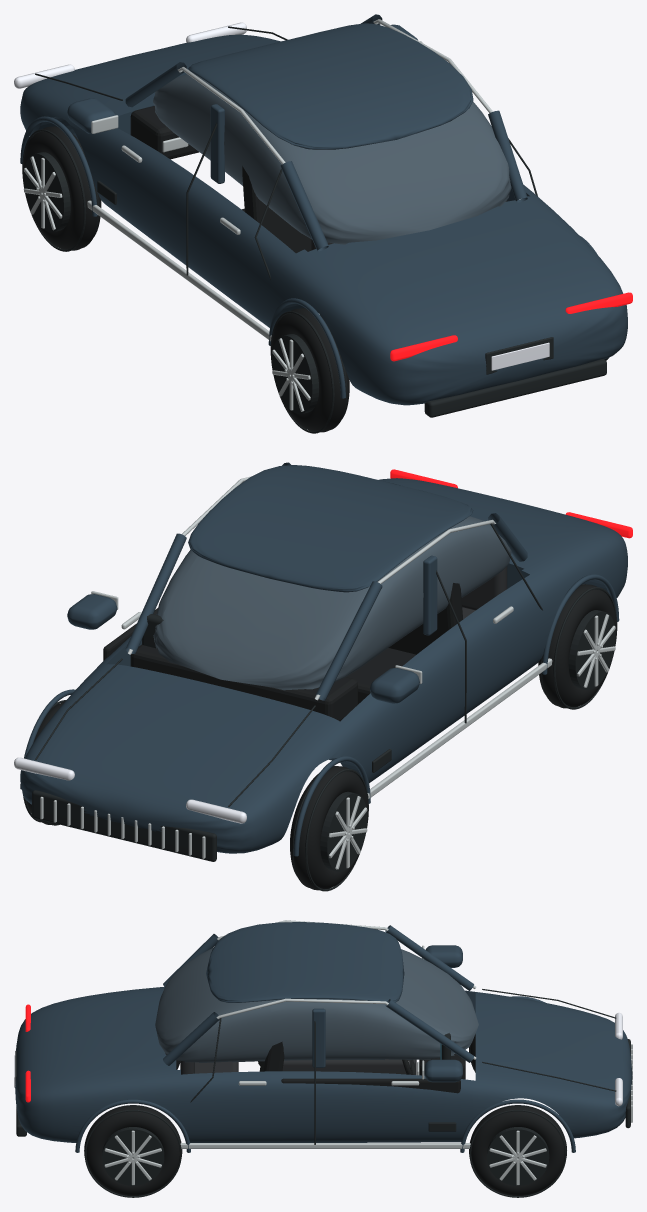
File: executive-sedan.glb
3 renders of one model, top to bottom at view 1: azimuth 30°, elevation 25°; view 2: azimuth 150°, elevation 25°; view 3: azimuth 270°, elevation 25°, orthographic. The views are drawn at different scales.
Visible parts, largest first — view 1: Sprung_body_fixtures_Midnight_graphite_metallic, Glazed cabin, Sprung_body_fixtures_Grille_black, Sprung_body_fixtures_Satin_aluminium, Tire, Tire.001, Sprung_body_fixtures_Rubber_sidewall, Spin_RR_fixtures_Grille_black, Spin_FR_fixtures_Grille_black, Sprung_body_fixtures_LED_pearl, Sprung_body_fixtures_Brake_lamp, Spin_RR_fixtures_Satin_aluminium (+1 smaller); view 2: Sprung_body_fixtures_Midnight_graphite_metallic, Glazed cabin, Sprung_body_fixtures_Rubber_sidewall, Sprung_body_fixtures_Grille_black, Sprung_body_fixtures_Satin_aluminium, Tire.001, Tire, Spin_FR_fixtures_Grille_black, Spin_RR_fixtures_Grille_black, Sprung_body_fixtures_LED_pearl, Wing mirror.001, Spin_RR_fixtures_Satin_aluminium (+4 smaller); view 3: Sprung_body_fixtures_Midnight_graphite_metallic, Driver_door_panel, Glazed cabin, Driver_door_window, Tire.002, Tire.003, Spin_FL_fixtures_Grille_black, Spin_RL_fixtures_Grille_black, Sprung_body_fixtures_Satin_aluminium, Sprung_body_fixtures_Graphite_leather, Sprung_body_fixtures_Grille_black, Driver_door_hinge_fixtures_Rubber_sidewall (+5 smaller).
Part boxes in pixels (left/top/right/bottom): Sprung_body_fixtures_Midnight_graphite_metallic: left=20, top=14, right=627, bottom=405; Glazed cabin: left=153, top=73, right=511, bottom=244; Sprung_body_fixtures_Grille_black: left=35, top=26, right=606, bottom=417; Sprung_body_fixtures_Satin_aluminium: left=87, top=19, right=521, bottom=341; Tire: left=271, top=308, right=349, bottom=432; Tire.001: left=23, top=126, right=101, bottom=250; Sprung_body_fixtures_Rubber_sidewall: left=130, top=106, right=310, bottom=253; Spin_RR_fixtures_Grille_black: left=270, top=308, right=347, bottom=433; Spin_FR_fixtures_Grille_black: left=22, top=126, right=98, bottom=251; Sprung_body_fixtures_LED_pearl: left=14, top=22, right=549, bottom=370; Sprung_body_fixtures_Brake_lamp: left=390, top=292, right=632, bottom=361; Spin_RR_fixtures_Satin_aluminium: left=272, top=338, right=310, bottom=411; Sprung_body_fixtures_Midnight_graphite_metallic: left=20, top=462, right=627, bottom=856; Glazed cabin: left=154, top=516, right=511, bottom=690; Sprung_body_fixtures_Rubber_sidewall: left=130, top=583, right=463, bottom=721; Sprung_body_fixtures_Grille_black: left=32, top=523, right=542, bottom=861; Sprung_body_fixtures_Satin_aluminium: left=40, top=476, right=552, bottom=858; Tire.001: left=290, top=766, right=368, bottom=890; Tire: left=538, top=584, right=616, bottom=708; Spin_FR_fixtures_Grille_black: left=292, top=766, right=368, bottom=891; Spin_RR_fixtures_Grille_black: left=540, top=584, right=617, bottom=709; Sprung_body_fixtures_LED_pearl: left=14, top=757, right=246, bottom=823; Wing mirror.001: left=67, top=594, right=117, bottom=629; Spin_RR_fixtures_Satin_aluminium: left=577, top=614, right=615, bottom=687; Sprung_body_fixtures_Midnight_graphite_metallic: left=15, top=922, right=632, bottom=1152; Driver_door_panel: left=271, top=1071, right=472, bottom=1142; Glazed cabin: left=155, top=947, right=478, bottom=1062; Driver_door_window: left=271, top=999, right=454, bottom=1060; Tire.002: left=84, top=1105, right=182, bottom=1196; Tire.003: left=469, top=1105, right=566, bottom=1196; Spin_FL_fixtures_Grille_black: left=469, top=1105, right=566, bottom=1197; Spin_RL_fixtures_Grille_black: left=84, top=1105, right=181, bottom=1197; Sprung_body_fixtures_Satin_aluminium: left=180, top=920, right=632, bottom=1148; Sprung_body_fixtures_Graphite_leather: left=180, top=1059, right=416, bottom=1074; Sprung_body_fixtures_Grille_black: left=15, top=989, right=630, bottom=1144; Driver_door_hinge_fixtures_Rubber_sidewall: left=281, top=1078, right=460, bottom=1093.
Size of the model in its own units: 2.26 by 1.55 by 4.66.
